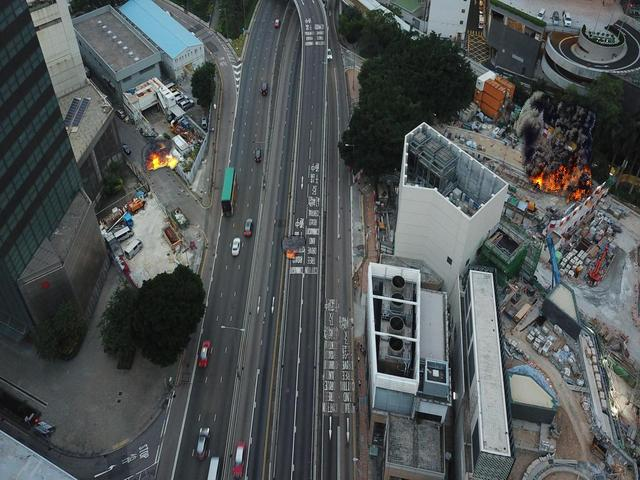fire: (512, 89, 597, 206), (142, 137, 177, 172), (281, 236, 304, 258)
